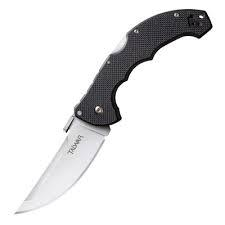knife: (11, 0, 198, 218)
